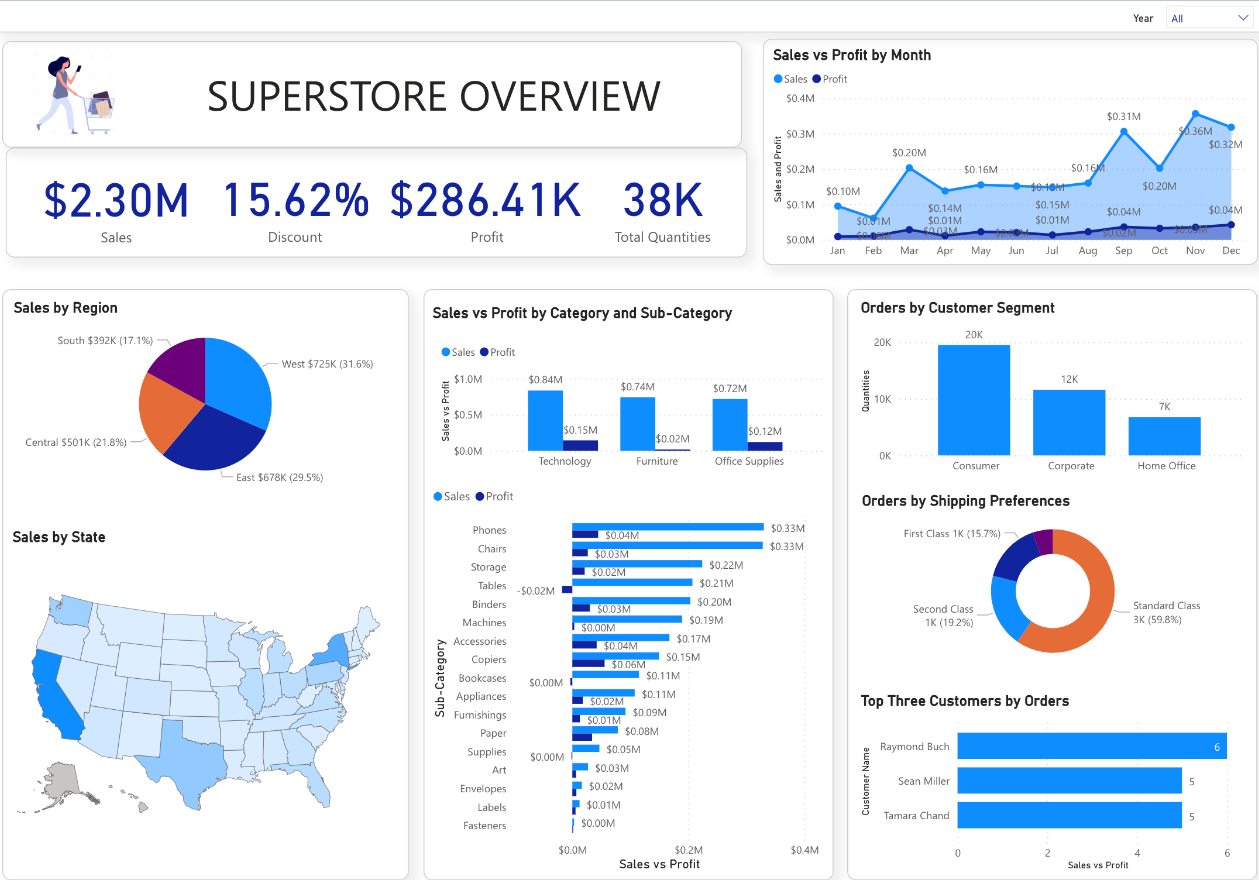

The page's visual inventory and layout, read from the dashboard file:
{"tool":"powerbi","page":{"name":"Superstore Overview","canvas":[1280,720],"ordinal":0},"visuals":[{"type":"shape","box":[0,44.3,560,88.6],"z":1000},{"type":"pageNavigator","box":[0,0,1280.5,45.2],"z":3000},{"type":"textbox","box":[168.6,62.9,367.1,54.3],"z":4000},{"type":"image","box":[12.9,61.4,155.7,52.9],"z":5000},{"type":"cardVisual","fields":{"Data":["cleaned superstore dataset__git.Sales"]},"box":[560,47.1,147.1,81.4],"z":6000},{"type":"cardVisual","fields":{"Data":["cleaned superstore dataset__git.Discount"]},"box":[694.3,51.4,151.4,81.4],"z":7000},{"type":"cardVisual","fields":{"Data":["cleaned superstore dataset__git.Profit"]},"box":[848.6,51.4,182.9,81.4],"z":8000},{"type":"cardVisual","fields":{"Data":["cleaned superstore dataset__git.Quantity"]},"box":[1028.6,48.6,141.4,82.9],"z":9000},{"type":"slicer","fields":{"Values":["cleaned superstore dataset__git.Year"]},"box":[1170,51.4,108.6,81.4],"z":11000},{"type":"shape","box":[0,150,367.1,570],"z":12000},{"type":"pieChart","fields":{"Y":["cleaned superstore dataset__git.Sales"],"Category":["cleaned superstore dataset__git.Region"]},"box":[11.4,174.3,344.3,212.9],"z":13000},{"type":"shape","box":[375.7,150,408.6,570],"z":15000},{"type":"shape","box":[785.7,150,494.3,570],"z":16000},{"type":"areaChart","title":"Sales vs Profit by Month","fields":{"Category":["cleaned superstore dataset__git.Month"],"Y":["cleaned superstore dataset__git.Sales","cleaned superstore dataset__git.Profit"]},"box":[800,518.6,464.3,171.4],"z":17000},{"type":"filledMap","title":" Sales by State","fields":{"Category":["cleaned superstore dataset__git.State"]},"box":[15.7,387.1,344.3,317.1],"z":18000},{"type":"clusteredColumnChart","title":"Sales vs Profit by Category and Subcategory","fields":{"Category":["cleaned superstore dataset__git.Category"],"Y":["cleaned superstore dataset__git.Sales","cleaned superstore dataset__git.Profit"]},"box":[388.6,174.3,382.9,158.6],"z":19000},{"type":"clusteredBarChart","title":"Sales vs Profit by Month","fields":{"Category":["cleaned superstore dataset__git.Sub-Category"],"Y":["cleaned superstore dataset__git.Sales","cleaned superstore dataset__git.Profit"]},"box":[388.6,332.9,382.9,371.4],"z":20000},{"type":"clusteredColumnChart","title":"Orders by Customer Segment","fields":{"Category":["cleaned superstore dataset__git.Segment"],"Y":["cleaned superstore dataset__git.Quantity"]},"box":[800,174.3,464.3,158.6],"z":21000},{"type":"donutChart","title":"Orders by Customer Segment","fields":{"Series":["cleaned superstore dataset__git.Ship Mode"],"Y":["cleaned superstore dataset__git.Quantity"]},"box":[800,355.7,464.3,160],"z":22000}]}

Visuals, with their boxes on the page's 1280x720 design canvas (x1, y1, x2, y2). These are canvas units, not pixel positions in the 1259x880 screenshot, which may show the page scaled, cropped or inside an application window:
shape: Rect(0, 44, 560, 133)
pageNavigator: Rect(0, 0, 1280, 45)
textbox: Rect(169, 63, 536, 117)
image: Rect(13, 61, 169, 114)
cardVisual - cleaned superstore dataset__git.Sales: Rect(560, 47, 707, 128)
cardVisual - cleaned superstore dataset__git.Discount: Rect(694, 51, 846, 133)
cardVisual - cleaned superstore dataset__git.Profit: Rect(849, 51, 1032, 133)
cardVisual - cleaned superstore dataset__git.Quantity: Rect(1029, 49, 1170, 132)
slicer - cleaned superstore dataset__git.Year: Rect(1170, 51, 1279, 133)
shape: Rect(0, 150, 367, 720)
pieChart - cleaned superstore dataset__git.Sales x cleaned superstore dataset__git.Region: Rect(11, 174, 356, 387)
shape: Rect(376, 150, 784, 720)
shape: Rect(786, 150, 1280, 720)
"Sales vs Profit by Month" areaChart: Rect(800, 519, 1264, 690)
" Sales by State" filledMap: Rect(16, 387, 360, 704)
"Sales vs Profit by Category and Subcategory" clusteredColumnChart: Rect(389, 174, 772, 333)
"Sales vs Profit by Month" clusteredBarChart: Rect(389, 333, 772, 704)
"Orders by Customer Segment" clusteredColumnChart: Rect(800, 174, 1264, 333)
"Orders by Customer Segment" donutChart: Rect(800, 356, 1264, 516)
